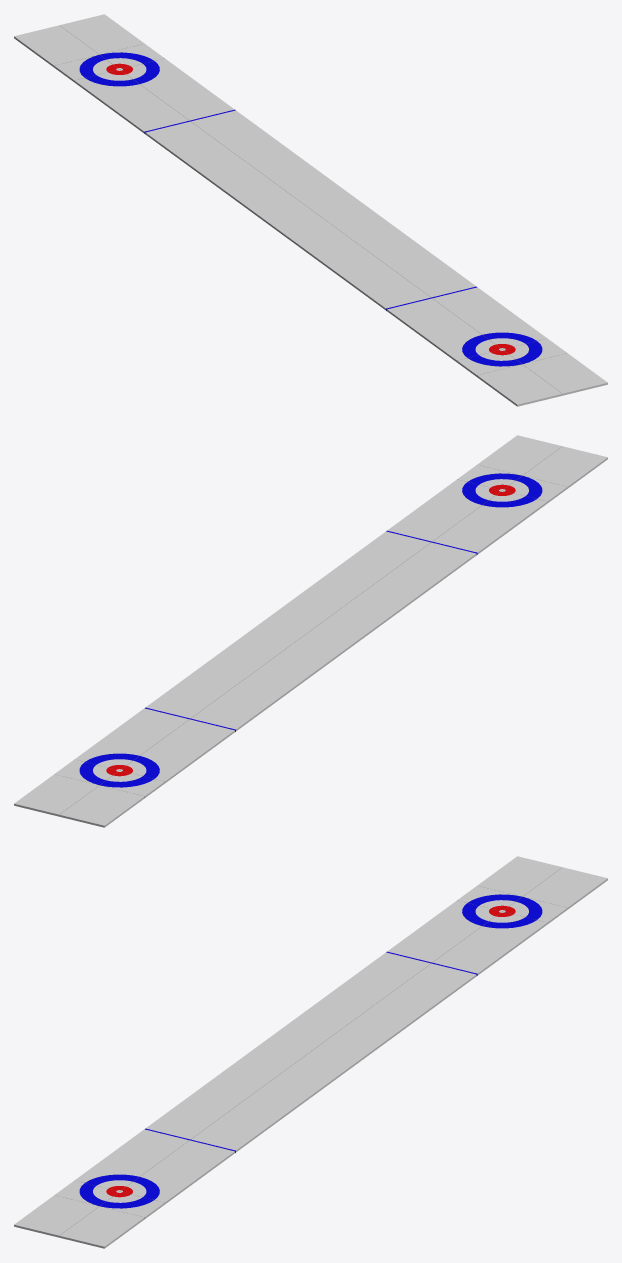
Rendered from CurlingSheet.002.fbx.
3 renders of one model, top to bottom at view 1: azimuth 30°, elevation 25°; view 2: azimuth 150°, elevation 25°; view 3: azimuth 330°, elevation 25°, orthographic.
Visible parts, largest first — view 1: CurlingSheet.002; view 2: CurlingSheet.002; view 3: CurlingSheet.002.
Part boxes in pixels (x1=…): CurlingSheet.002: x1=14, y1=14, x2=607, y2=406; CurlingSheet.002: x1=14, y1=435, x2=607, y2=827; CurlingSheet.002: x1=14, y1=856, x2=607, y2=1248.
Bounding box in the file's own units: 95 × 2 × 914.
